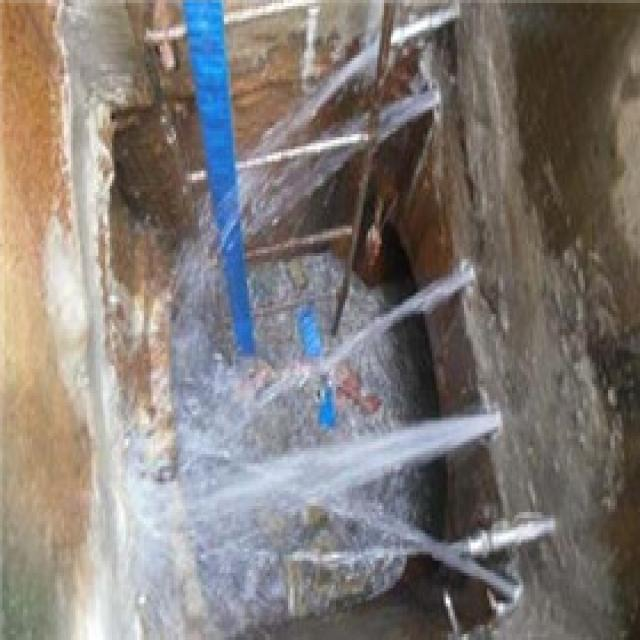leak: (182, 1, 459, 254), (227, 457, 524, 599), (231, 258, 473, 429), (239, 89, 439, 247), (198, 416, 500, 511), (278, 515, 560, 568)
